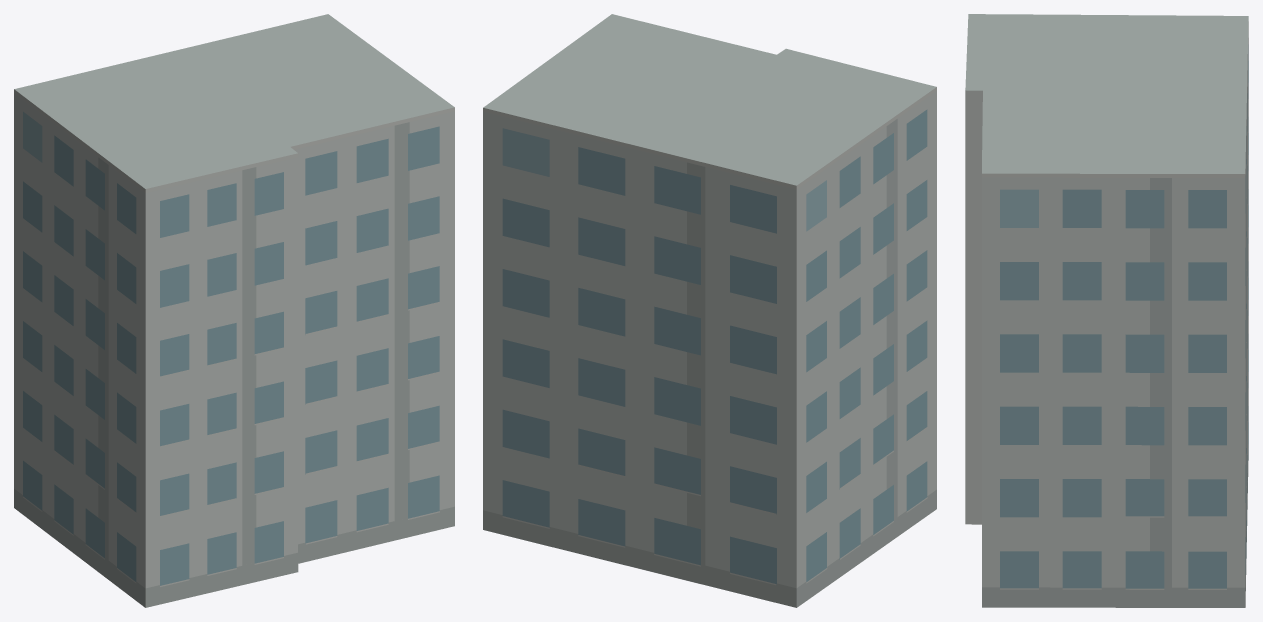
The model's file is survey-upis-32603216.glb.
The picture shows the model from 3 angles, left to right: view 1: azimuth 30°, elevation 25°; view 2: azimuth 150°, elevation 25°; view 3: azimuth 270°, elevation 25°; orthographic projection. The views are drawn at different scales.
Parts seen in each view (by area): view 1: survey-upis-32603216.tmp; view 2: survey-upis-32603216.tmp; view 3: survey-upis-32603216.tmp.
Part boxes in pixels (box(x1,y1,x2,y2)): survey-upis-32603216.tmp: box(14, 14, 454, 607); survey-upis-32603216.tmp: box(483, 14, 936, 607); survey-upis-32603216.tmp: box(965, 14, 1248, 607).
Size of the model in its own units: 20.74 by 26.2 by 15.51.
